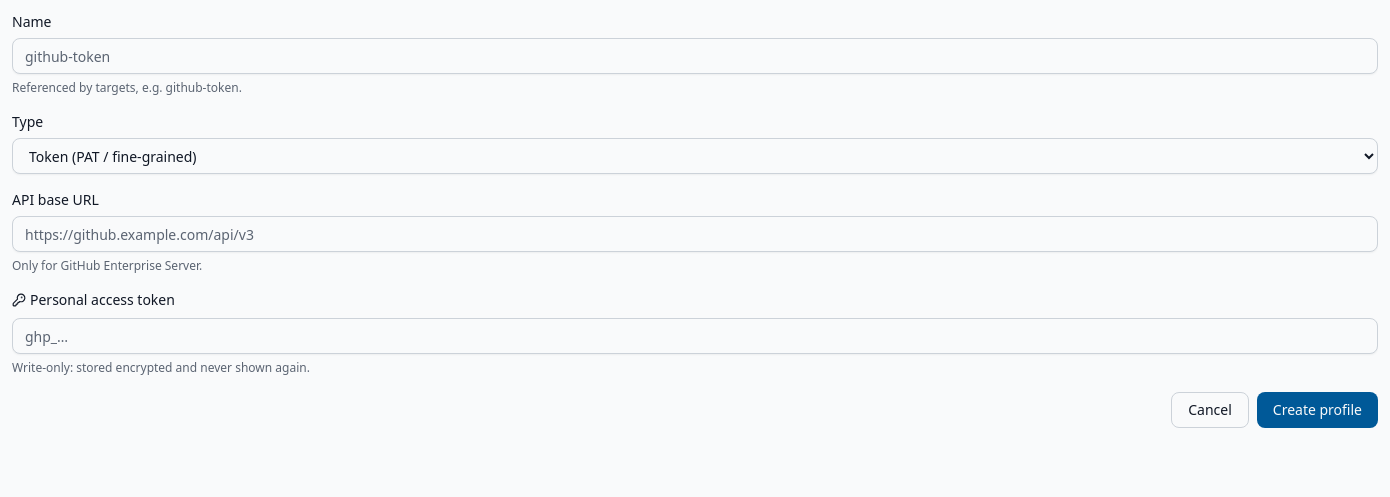
Test: AuthProfileForm › shows server field errors next to the field
Type "dup" into the field labelled "Name" at (695, 56), box [12, 38, 1378, 74]
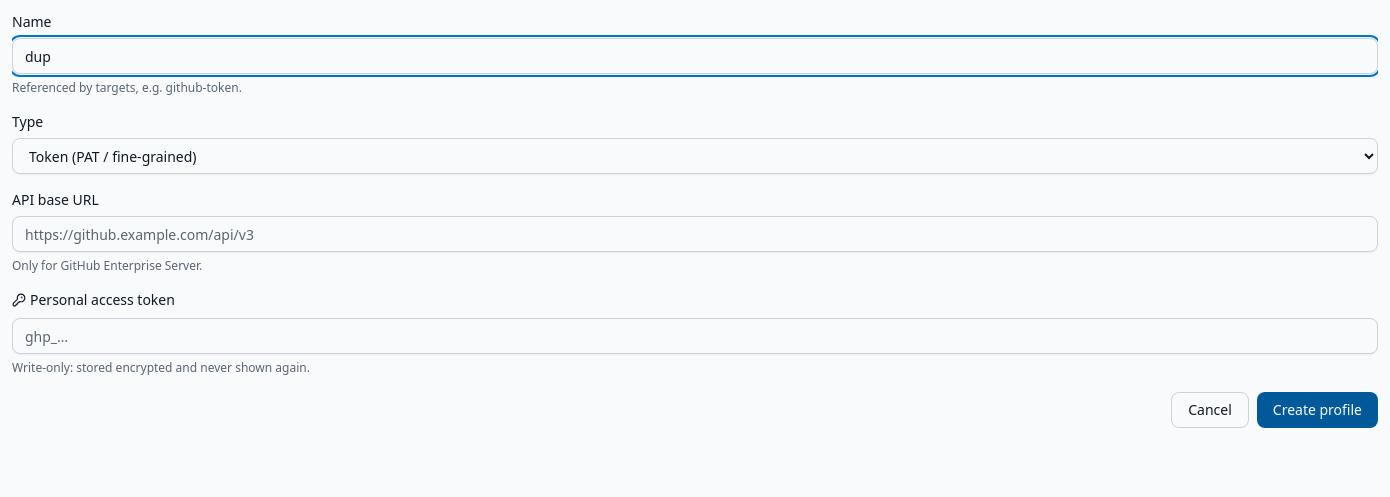
Type "ghp_x" into the password field labelled "Personal access token" at (695, 336), box [12, 318, 1378, 354]
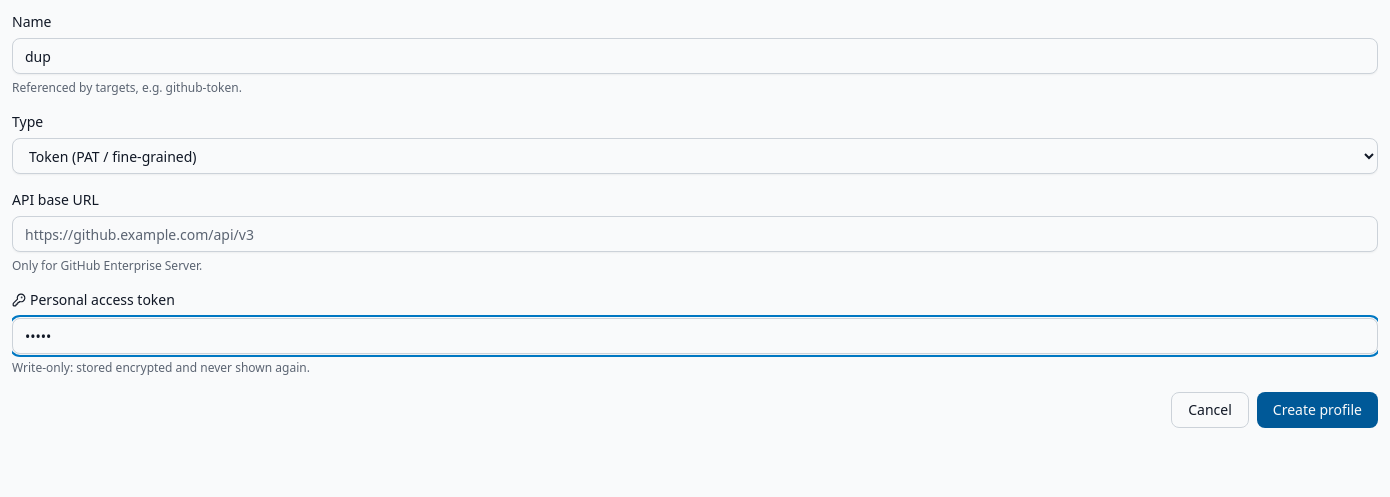
Click the button "Create profile" at (1317, 410), box [1257, 392, 1378, 428]
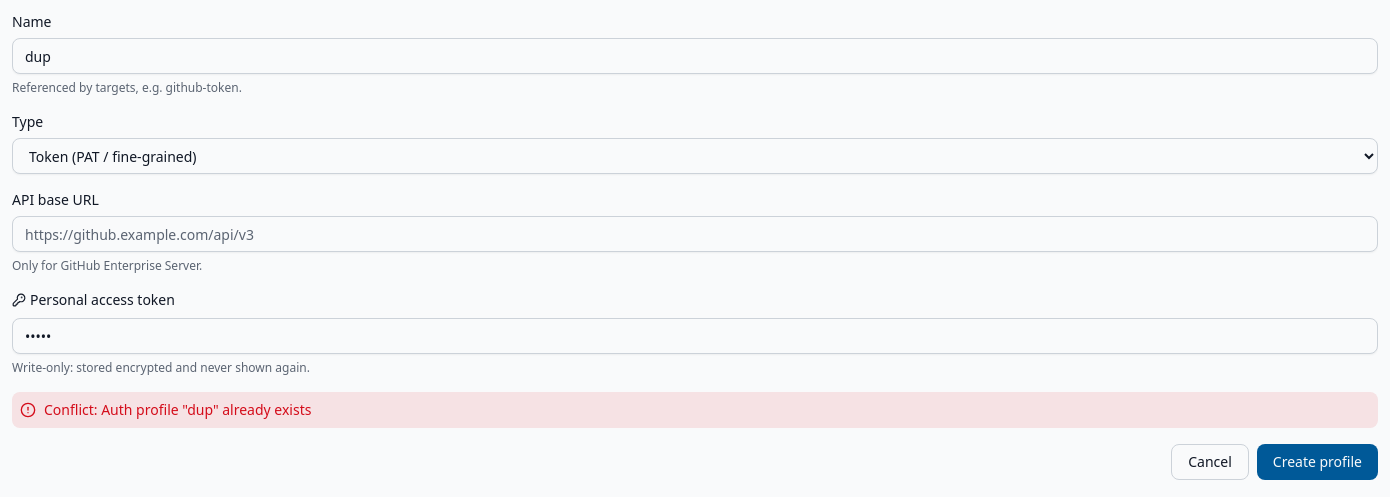
Expected: the message reads "Conflict: Auth profile \"dup\" already exists", [44, 400, 312, 419]
